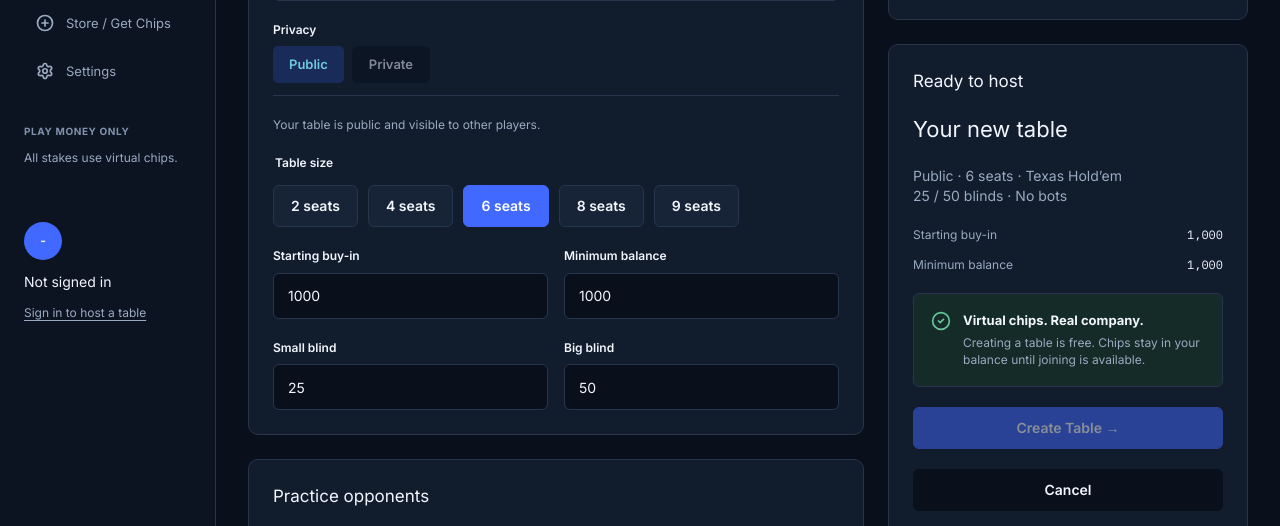
Test: seat selection updates summary, and create another resets the form
(page scrolled)
Click the radio button labelled "9 seats".
click(696, 206)  # box [654,185,739,227]
(page scrolled)
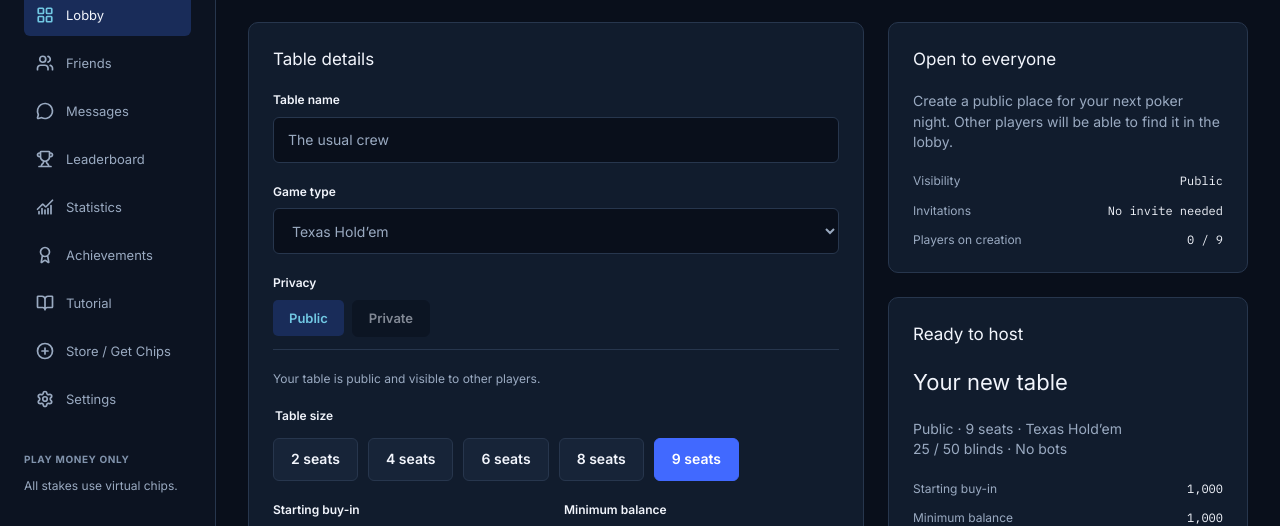
Now the text "0 / 9" is shown, box [1187,231,1223,248]
Type "Friday poker" into the field labelled "Table name".
click(556, 140); type("Friday poker")  # box [273,117,839,163]
(page scrolled)
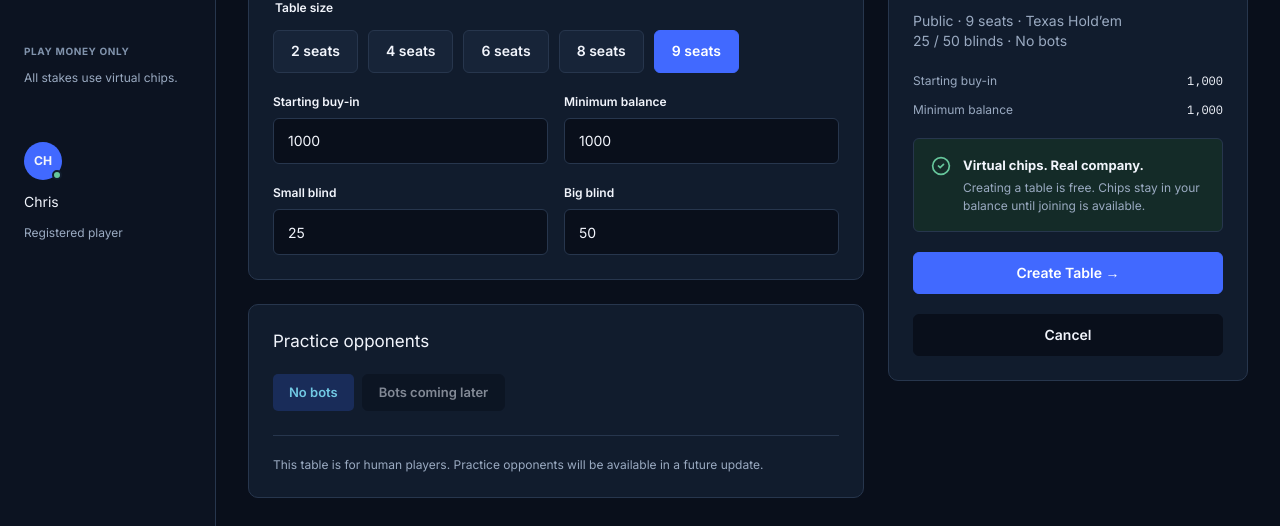
Now the button "Create Table →" is enabled
Click the button "Create Table →".
click(1068, 273)  # box [913,252,1223,294]
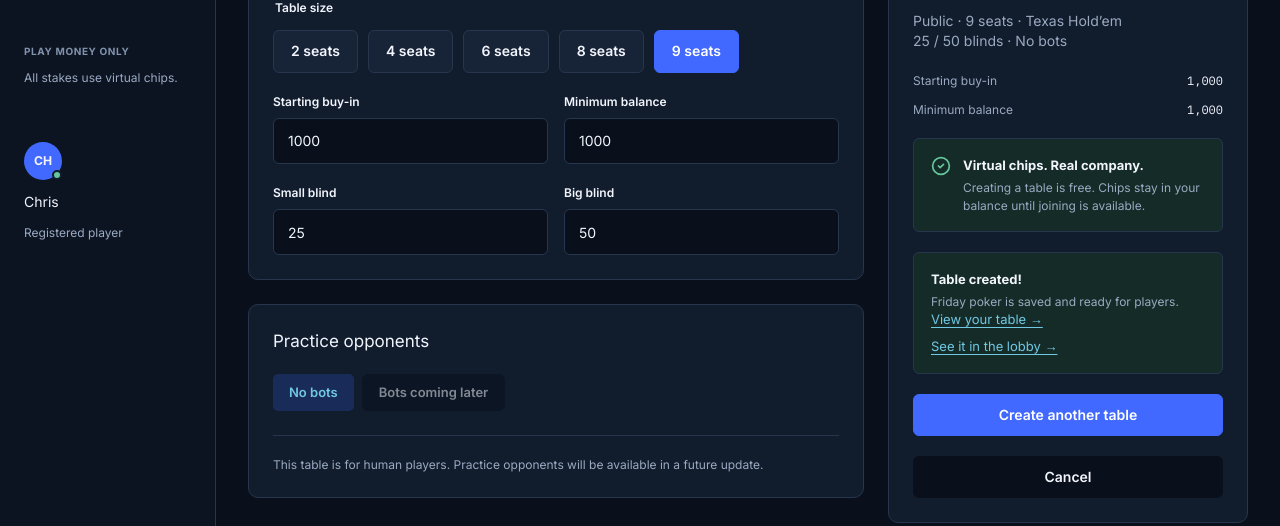
Click the button "Create another table".
click(1068, 415)  # box [913,394,1223,436]
(page scrolled)
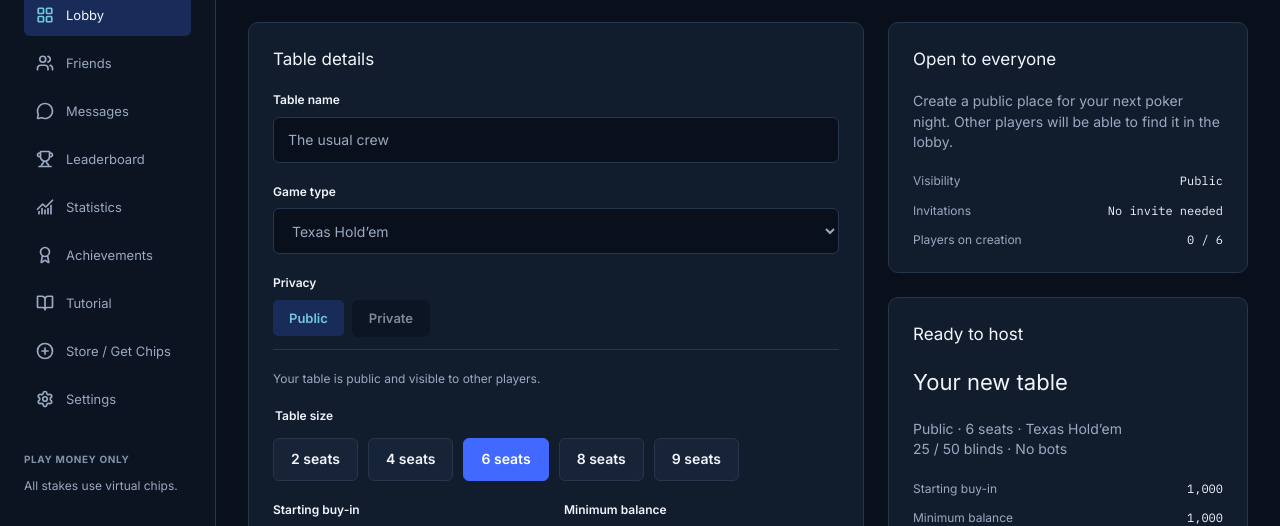
Now the field labelled "Table name" is empty, box [273,117,839,163]
Now the radio button labelled "6 seats" is checked, box [464,438,549,481]
